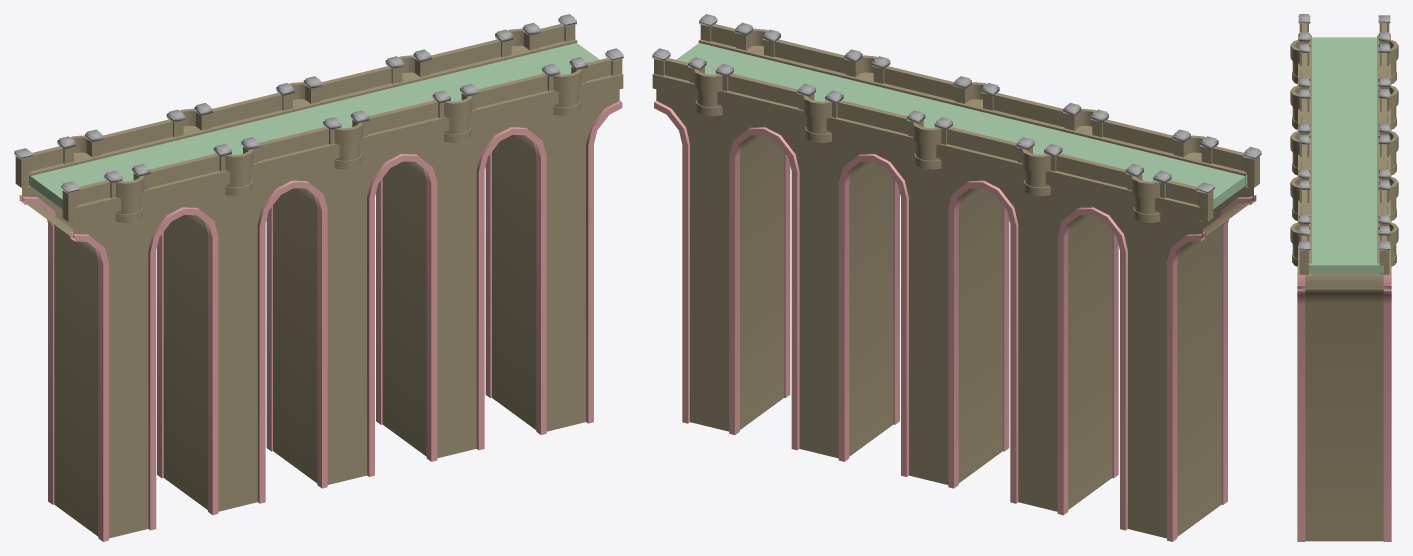
File: Bridge_LOD1.fbx
3 renders of one model, left to right at view 1: azimuth 30°, elevation 25°; view 2: azimuth 150°, elevation 25°; view 3: azimuth 270°, elevation 25°, orthographic. The views are drawn at different scales.
Visible parts, largest first — view 1: polySurface538; view 2: polySurface538; view 3: polySurface538.
Boxes of the visible parts, bbox=[...] form: polySurface538: bbox=[14, 14, 623, 541]; polySurface538: bbox=[652, 14, 1261, 541]; polySurface538: bbox=[1290, 14, 1398, 541].
Size of the model in its own units: 152 by 94.77 by 30.1.
